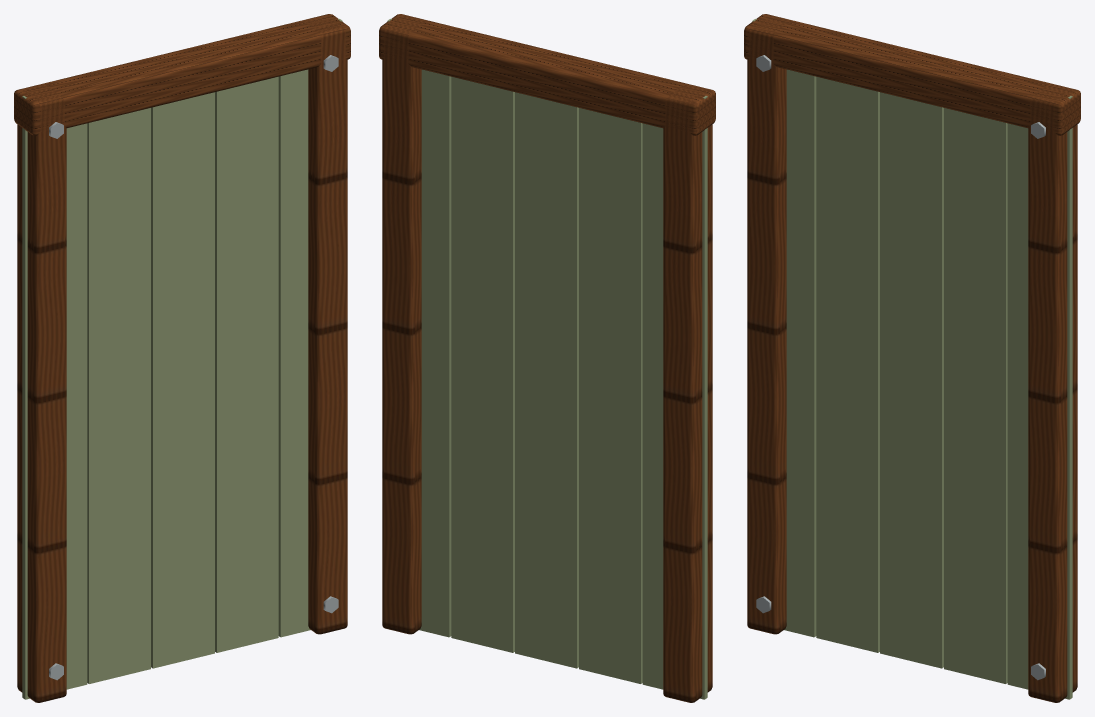
The model's file is roadside-survival-stops-restroom-divider-4ed1e7d2__23577.glb.
3 views of the same model, side by side, from view 1: azimuth 30°, elevation 25°; view 2: azimuth 150°, elevation 25°; view 3: azimuth 330°, elevation 25° (orthographic).
Parts seen in each view (by area): view 1: restroom-divider; view 2: restroom-divider; view 3: restroom-divider.
Part boxes in pixels (x1,y1,x2,y2): restroom-divider: (14, 14, 350, 702); restroom-divider: (379, 14, 715, 702); restroom-divider: (744, 14, 1080, 702).
Size of the model in its own units: 1 by 1.8 by 0.1234.
Materials: 3 (1 with a texture image).
